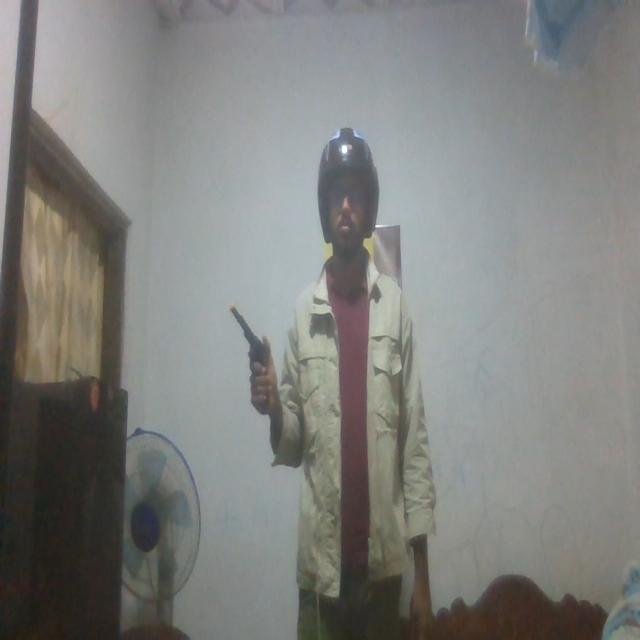Gun_Holder: (226, 305, 284, 411)
Helmet_Wearer: (304, 124, 386, 265)
Jacket_Wearer: (264, 248, 442, 579)
Person: (252, 125, 438, 640)
